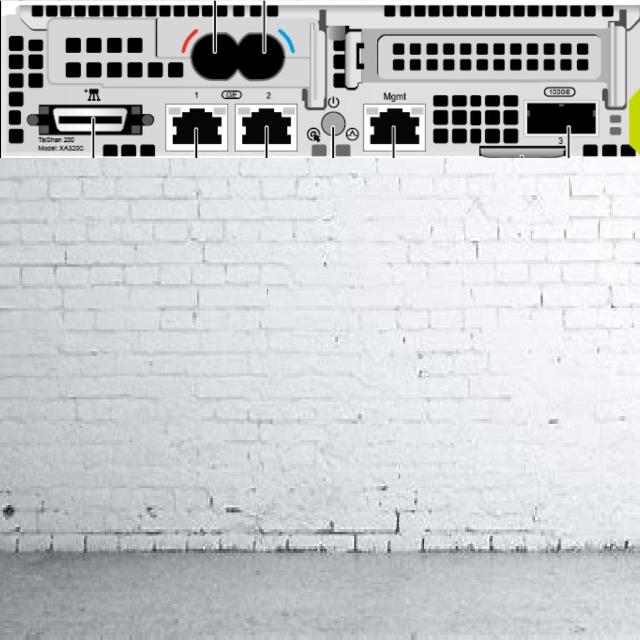Server: (0, 1, 640, 158)
